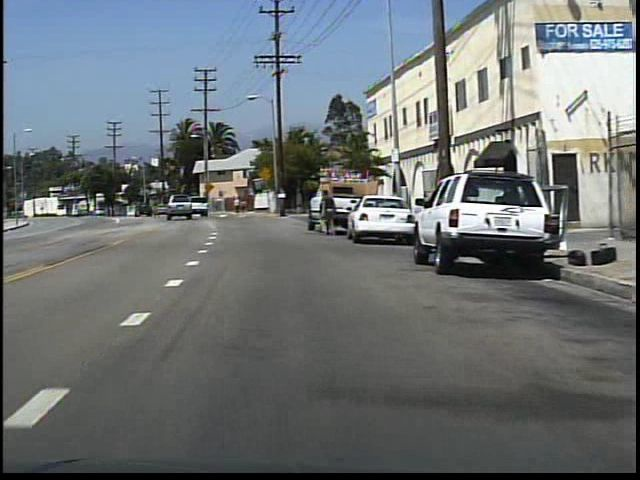person: (316, 185, 338, 240), (232, 196, 241, 217), (239, 198, 248, 215)
